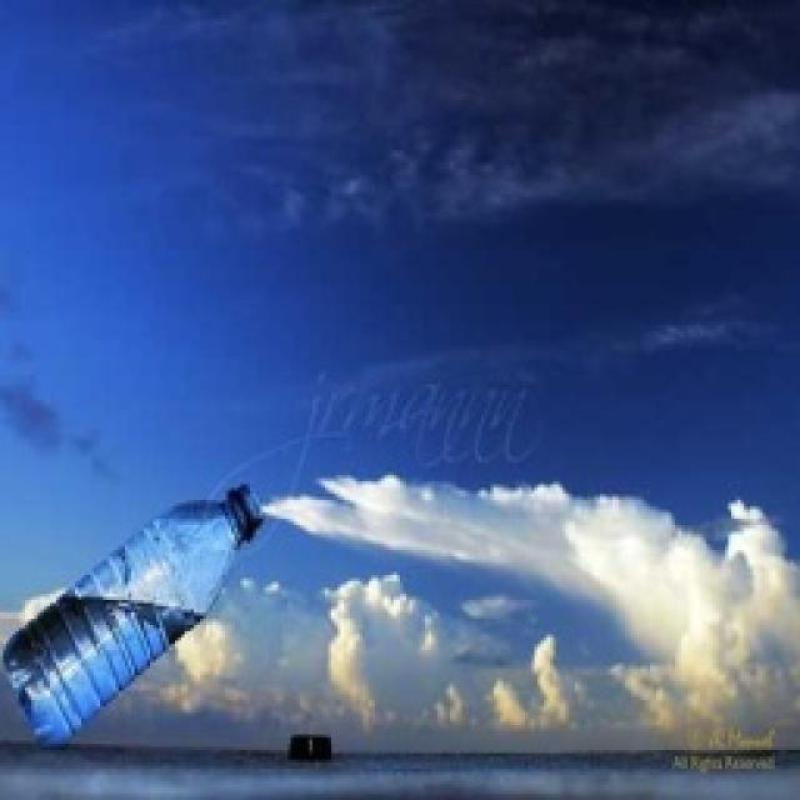botella: (0, 484, 265, 750)
